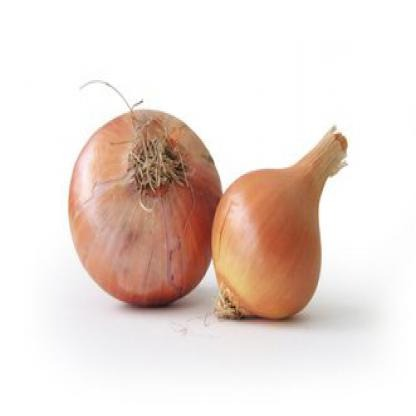onion: (69, 111, 347, 328)
